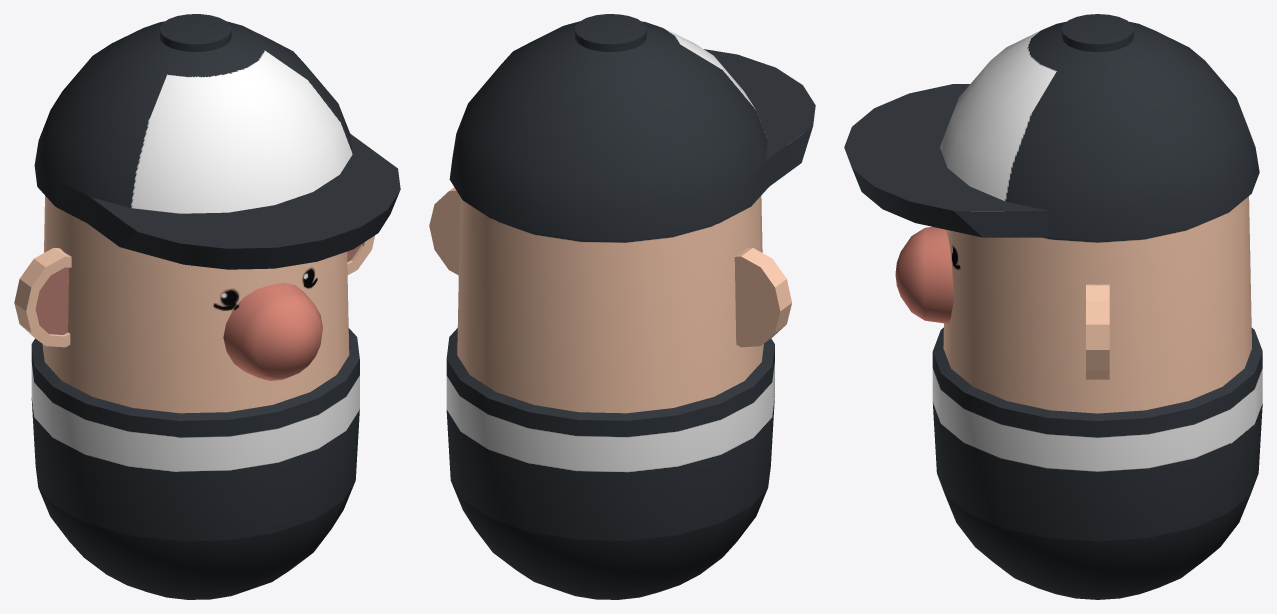
File: orangtopi.fbx
3 views of the same model, side by side, from view 1: azimuth 30°, elevation 25°; view 2: azimuth 150°, elevation 25°; view 3: azimuth 270°, elevation 25° (orthographic).
Visible parts, largest first — view 1: orang topi; view 2: orang topi; view 3: orang topi.
Part boxes in pixels (box(x1,y1,x2,y2)): orang topi: box(14, 14, 400, 599); orang topi: box(429, 14, 815, 599); orang topi: box(844, 14, 1262, 599).
Bounding box in the file's own units: 153 × 232 × 158.
1 material, 1 textured.
